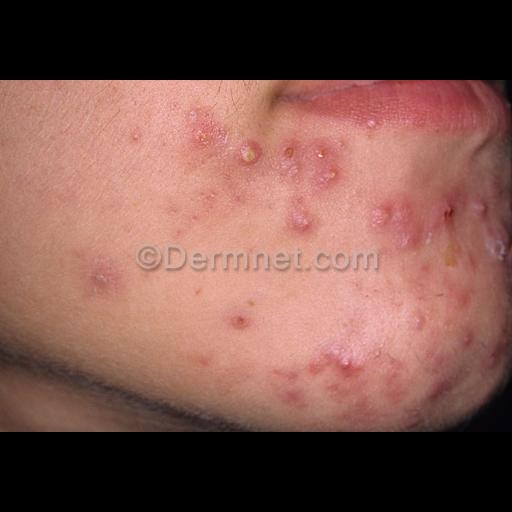Skin_Lesion: (370, 197, 434, 255), (274, 366, 310, 416), (185, 112, 225, 152), (82, 260, 120, 302), (326, 348, 360, 382), (227, 298, 257, 336), (286, 200, 316, 238), (382, 359, 406, 397), (235, 138, 263, 168), (314, 162, 342, 192), (436, 192, 458, 226), (368, 200, 394, 228), (280, 152, 304, 182), (488, 229, 512, 257), (427, 383, 453, 407), (123, 122, 143, 150), (191, 278, 211, 304), (407, 308, 427, 332), (428, 346, 448, 366), (472, 198, 492, 218), (461, 326, 477, 348), (280, 143, 298, 161), (457, 289, 473, 307), (482, 350, 496, 370), (45, 80, 67, 92), (366, 125, 382, 139), (234, 80, 254, 90)
